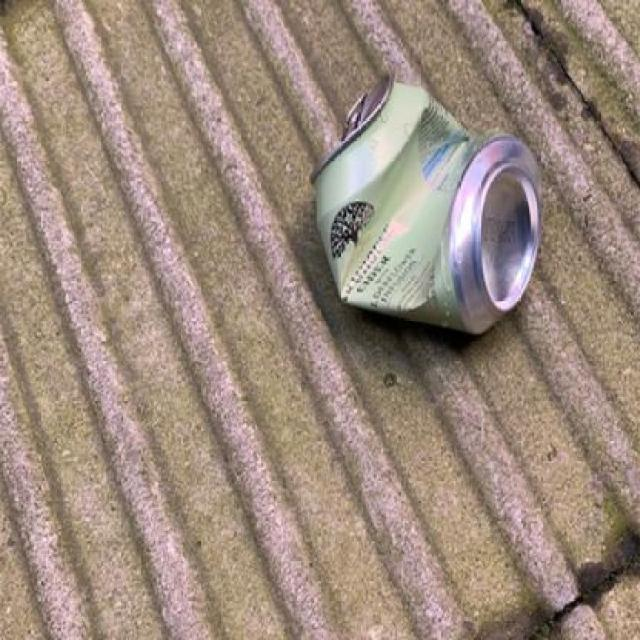Metal: (309, 74, 543, 334)
